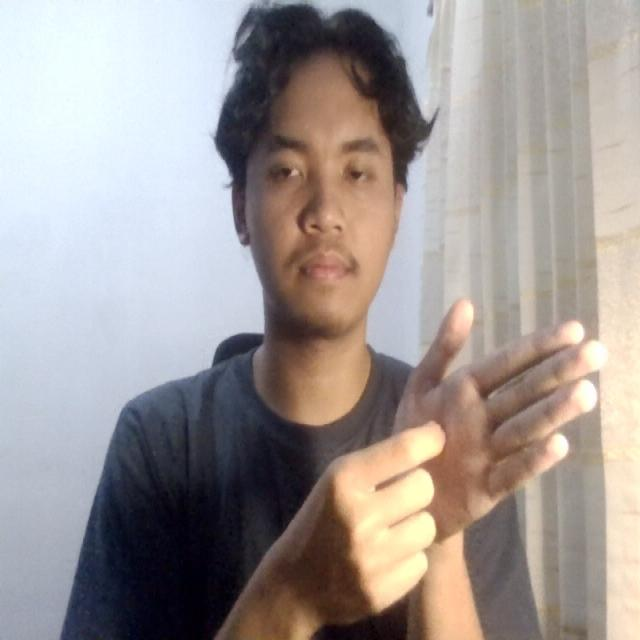L: (282, 288, 621, 631)
